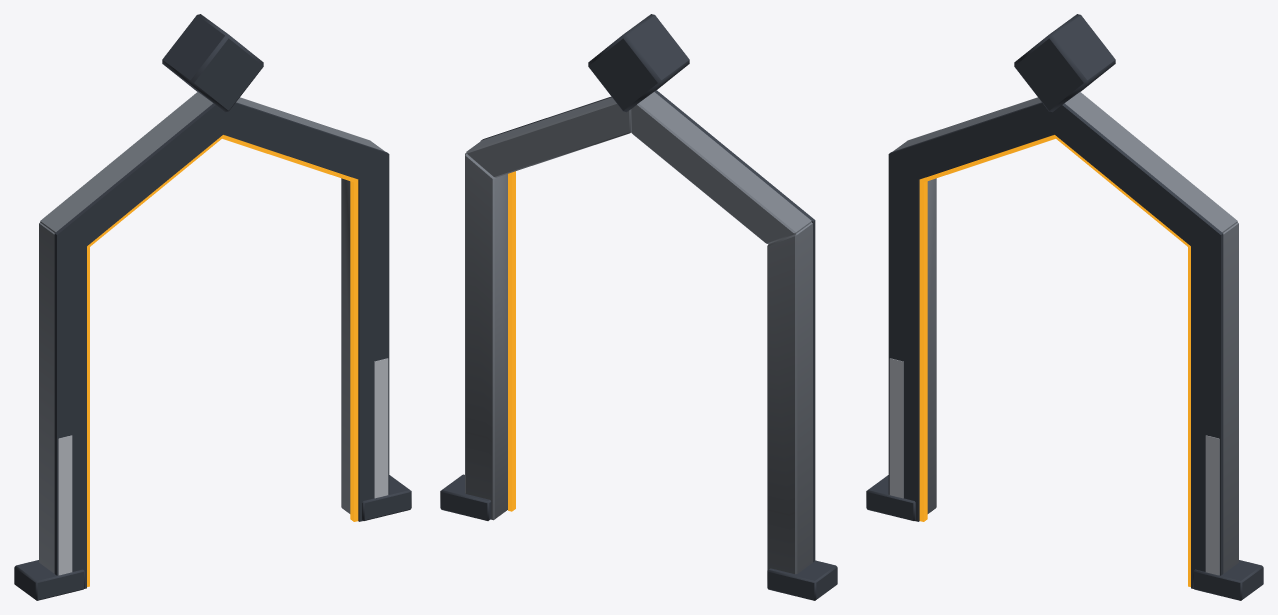
File: doorframe_peaked_gable.glb
The picture shows the model from 3 angles, left to right: view 1: azimuth 30°, elevation 25°; view 2: azimuth 150°, elevation 25°; view 3: azimuth 330°, elevation 25°; orthographic projection.
Parts seen in each view (by area): view 1: doorframe_peaked_gable; view 2: doorframe_peaked_gable; view 3: doorframe_peaked_gable.
Part boxes in pixels (x1=…): doorframe_peaked_gable: x1=14, y1=14, x2=411, y2=600; doorframe_peaked_gable: x1=440, y1=14, x2=837, y2=600; doorframe_peaked_gable: x1=866, y1=14, x2=1263, y2=600.
Bounding box in the file's own units: 2.76 × 3.67 × 0.4.
